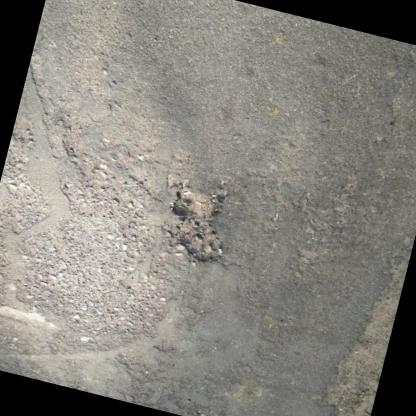pothole: (154, 182, 235, 270)
